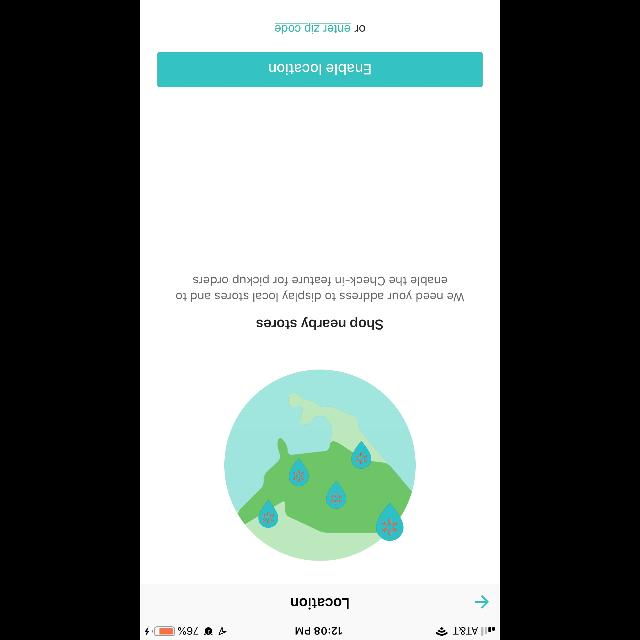icon: (475, 595, 489, 609)
image: (224, 370, 416, 560)
text: (176, 274, 464, 302), (257, 316, 383, 329), (275, 22, 365, 34), (291, 596, 349, 610)
textbutton: (158, 52, 482, 88)
uppertaskbar: (140, 626, 500, 640)
